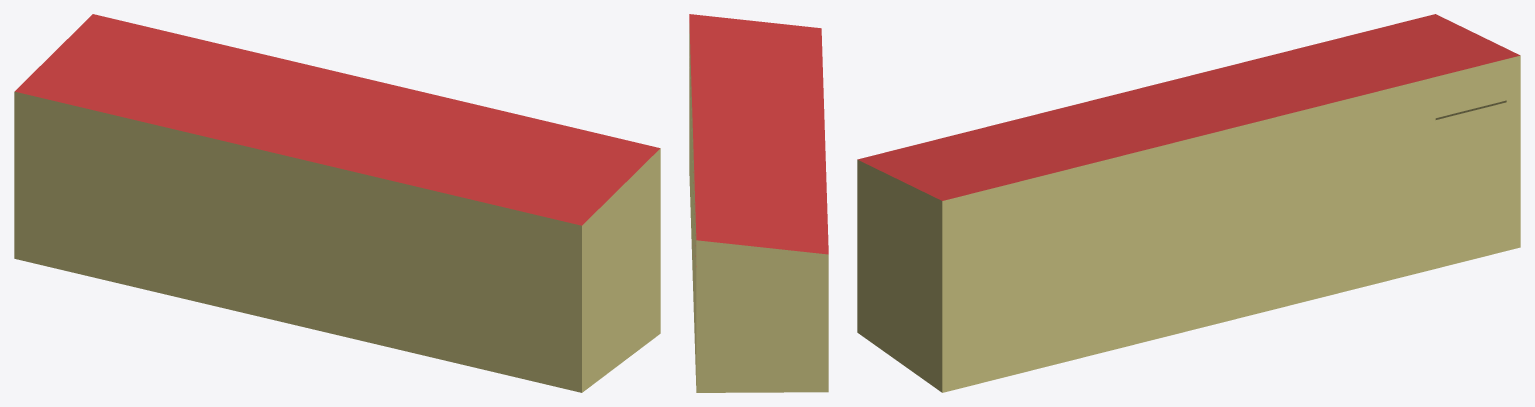
The picture shows the model from 3 angles, left to right: view 1: azimuth 30°, elevation 25°; view 2: azimuth 150°, elevation 25°; view 3: azimuth 270°, elevation 25°; orthographic projection. The views are drawn at different scales.
Bounding box in the file's own units: 23.13 × 31.5 × 10.05.
